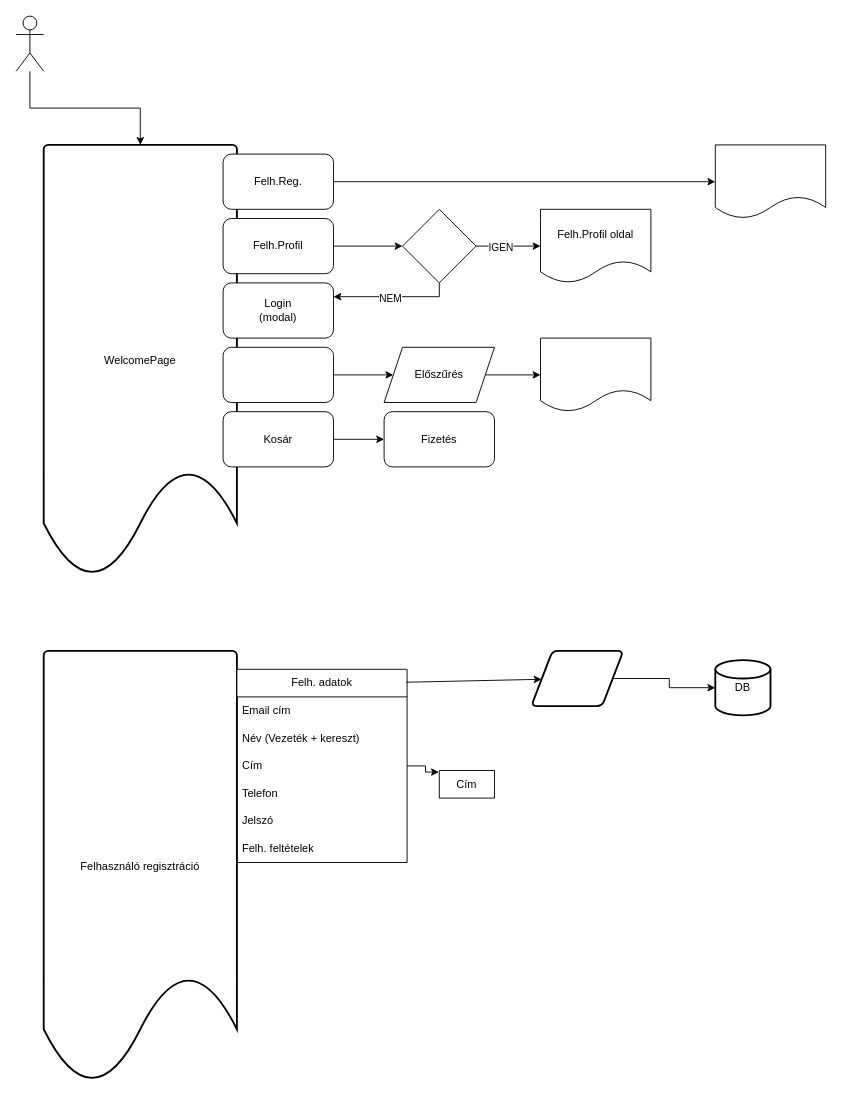
This 842x1100 diagram has some shape labels left out. Here are the shapes that lost their labels. From the top down, the centre of each, then its label:
[29,43]: Actor
[770,181]: Felh.Reg. oldal
[439,245]: Már Bejelentekett?
[278,374]: Termékek
[595,374]: Termékek oldal
[577,678]: Adatok ellenőrzése
